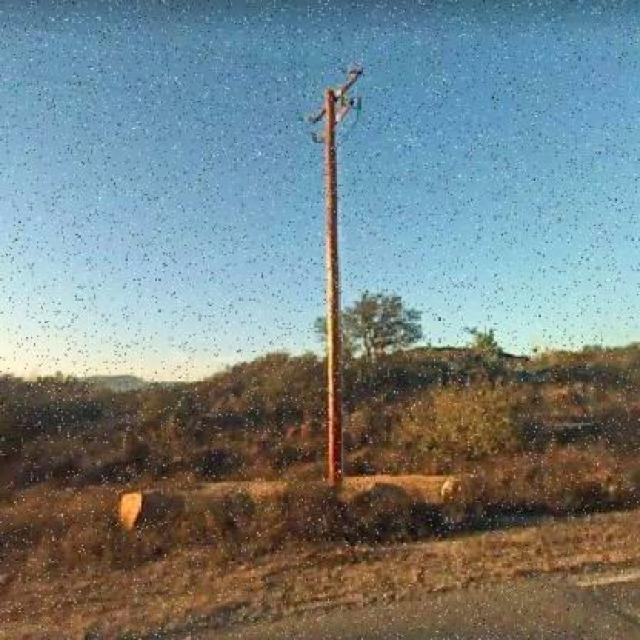crossarm: (305, 65, 365, 125)
pole: (322, 91, 342, 491)
